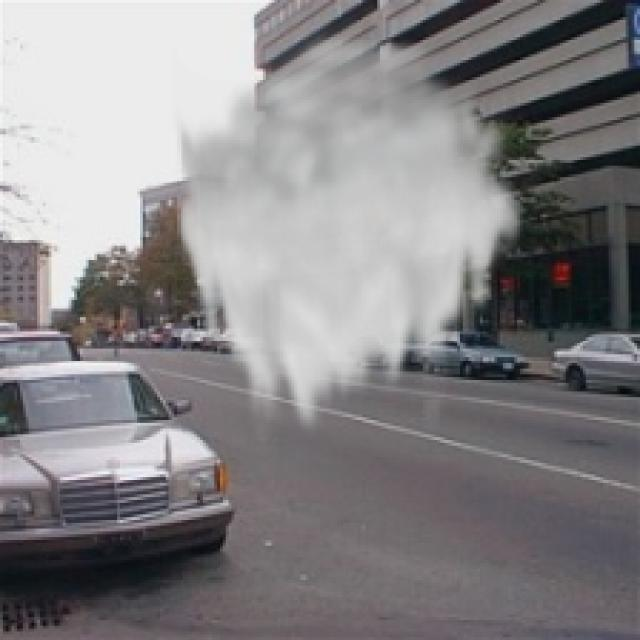smoke: (172, 26, 528, 446)
